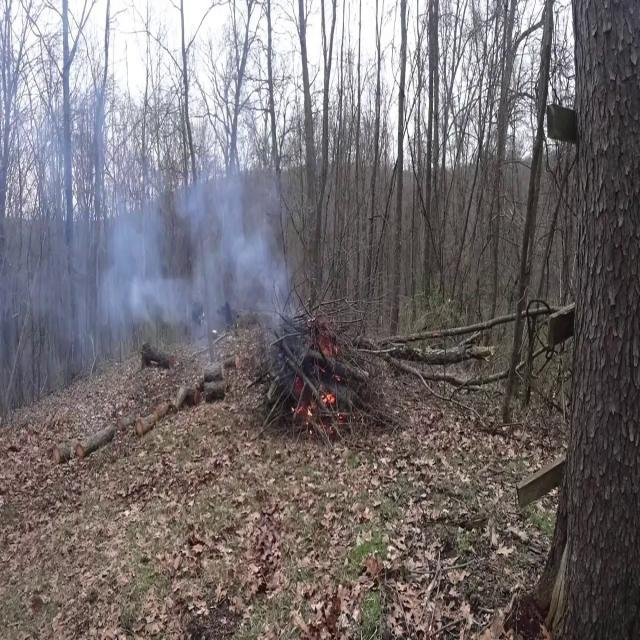Smoke: (3, 146, 291, 380), (86, 134, 286, 370)
